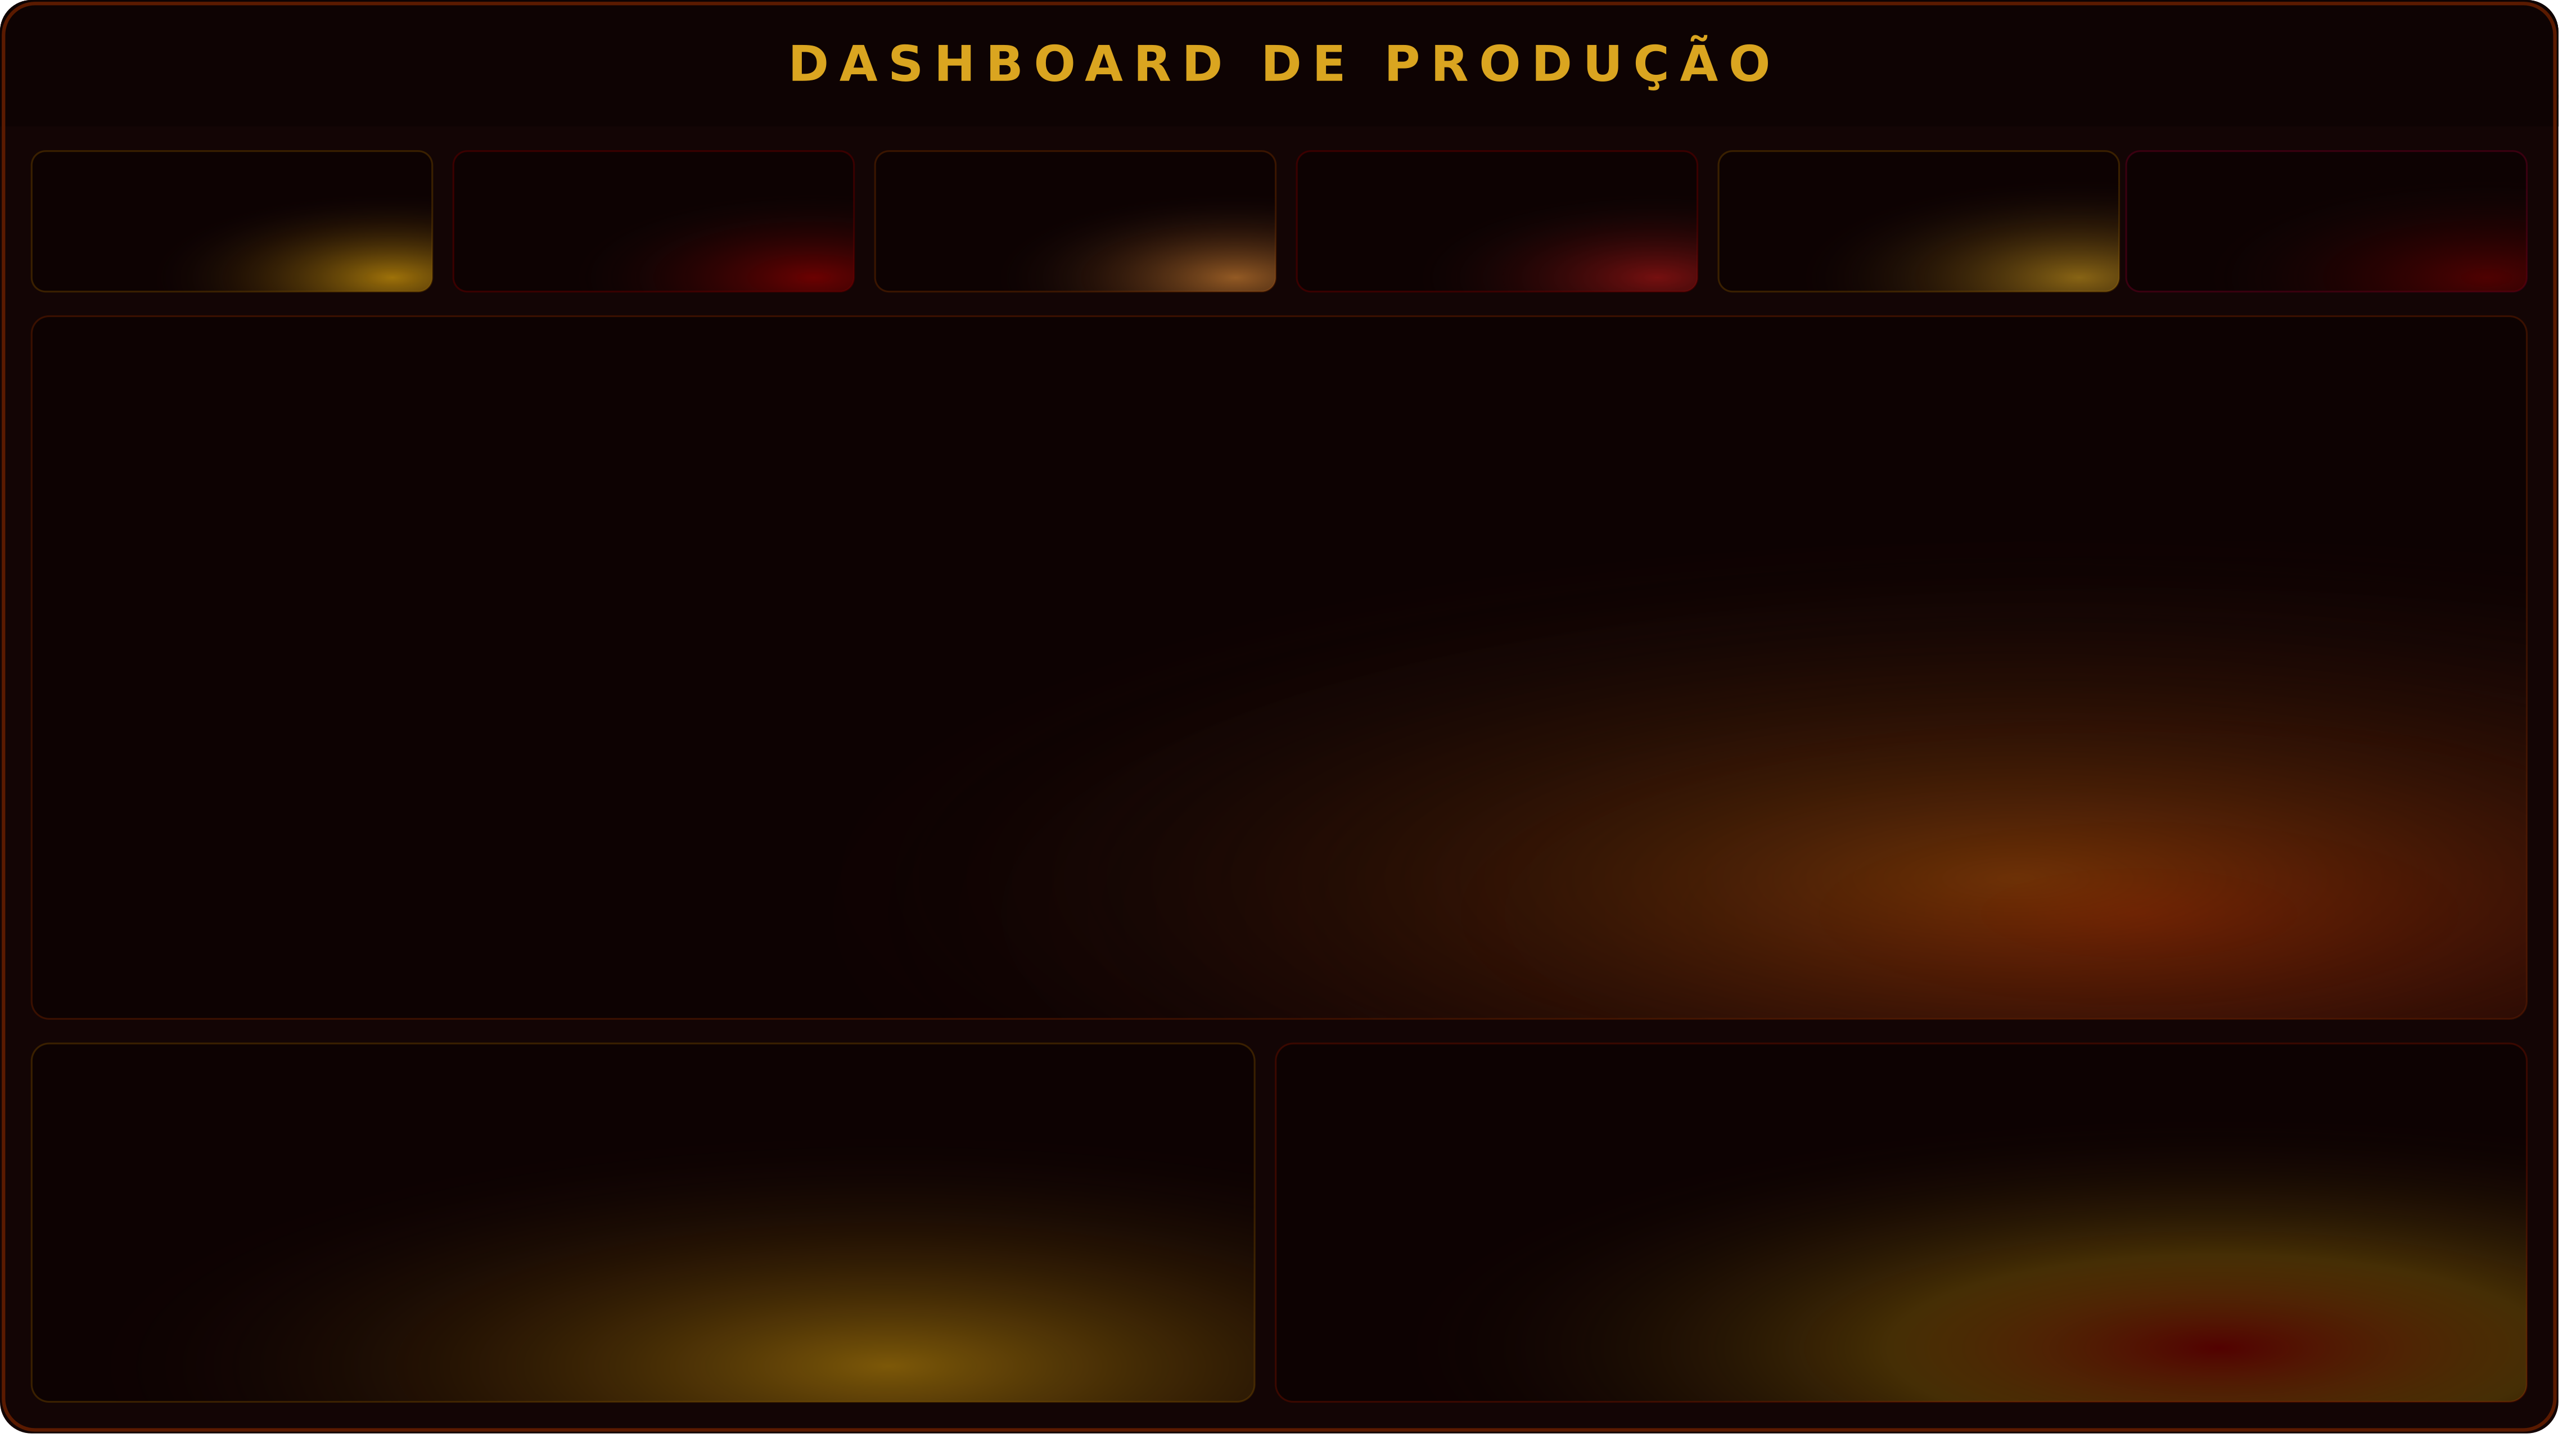

Layout of this report page (visuals, bound fields, positions):
{"tool":"powerbi","page":{"name":"Página 1","canvas":[1280,720],"ordinal":0},"visuals":[{"type":"cardVisual","fields":{"Data":["BaseProdução.Total Aprovado"]},"box":[57.1,77.1,188.6,68.6],"z":0},{"type":"cardVisual","fields":{"Data":["BaseProdução.Total Rejeitado"]},"box":[263.3,75.6,193.3,68.9],"z":1000},{"type":"cardVisual","fields":{"Data":["BaseProdução.Horas Produtivas"]},"box":[472.2,75.6,188.9,68.9],"z":2000},{"type":"cardVisual","fields":{"Data":["BaseProdução.HORAS Paradas"]},"box":[691.1,76.7,191.1,68.9],"z":3000},{"type":"columnChart","fields":{"Category":["BaseProdução.Data Inicio.Variation.Hierarquia de datas.Mês"],"Y":["BaseProdução.Total Aprovado"]},"box":[21.4,160,1222.9,334.3],"z":4000},{"type":"gauge","fields":{"Y":["BaseProdução.Produtividade"]},"box":[21.4,522.9,594.3,168.6],"z":5000},{"type":"gauge","fields":{"Y":["BaseProdução.Qualidade"]},"box":[640,522.9,604.3,168.6],"z":6000},{"type":"slicer","fields":{"Values":["BaseProdução.Operador"]},"box":[854.3,77.1,188.6,67.1],"z":7000},{"type":"slicer","fields":{"Values":["BaseProdução.Data Inicio.Variation.Hierarquia de datas.Mês"]},"box":[1065.7,77.1,188.6,67.1],"z":8000},{"type":"image","box":[21,76,65,67],"z":8001},{"type":"image","box":[232.2,75.6,61.1,65.6],"z":8002},{"type":"image","box":[436.7,75.6,55.6,70],"z":8003},{"type":"image","box":[648.9,78.9,58.9,63.3],"z":8004}]}

Visuals, with their boxes in screenshot pixels (x1, y1, x2, y2), scaled from the page's 1280x720 canvas onto the 2576x1451 screenshot:
cardVisual - BaseProdução.Total Aprovado: (left=115, top=155, right=494, bottom=293)
cardVisual - BaseProdução.Total Rejeitado: (left=530, top=152, right=919, bottom=291)
cardVisual - BaseProdução.Horas Produtivas: (left=950, top=152, right=1330, bottom=291)
cardVisual - BaseProdução.HORAS Paradas: (left=1391, top=155, right=1775, bottom=293)
columnChart - BaseProdução.Data Inicio.Variation.Hierarquia de datas.Mês x BaseProdução.Total Aprovado: (left=43, top=323, right=2504, bottom=996)
gauge - BaseProdução.Produtividade: (left=43, top=1054, right=1239, bottom=1394)
gauge - BaseProdução.Qualidade: (left=1288, top=1054, right=2504, bottom=1394)
slicer - BaseProdução.Operador: (left=1719, top=155, right=2099, bottom=291)
slicer - BaseProdução.Data Inicio.Variation.Hierarquia de datas.Mês: (left=2145, top=155, right=2524, bottom=291)
image: (left=42, top=153, right=173, bottom=288)
image: (left=467, top=152, right=590, bottom=284)
image: (left=879, top=152, right=991, bottom=293)
image: (left=1306, top=159, right=1424, bottom=287)
